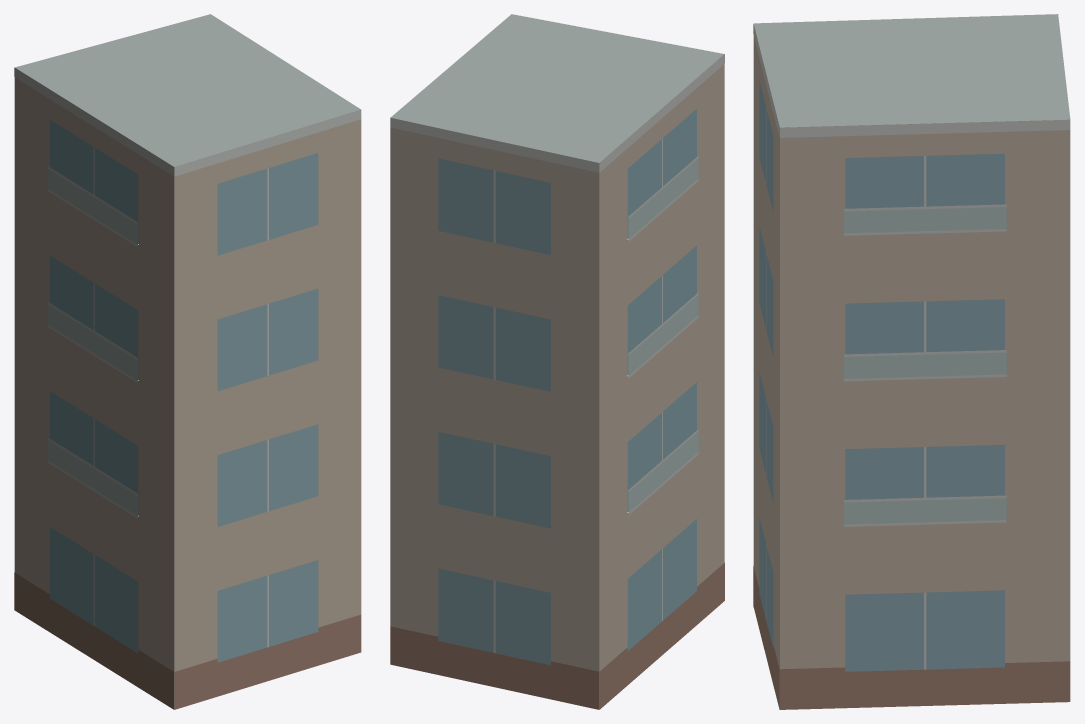
Rendered from survey-upis-32986553.glb.
3 views of the same model, side by side, from view 1: azimuth 30°, elevation 25°; view 2: azimuth 150°, elevation 25°; view 3: azimuth 270°, elevation 25° (orthographic). The views are drawn at different scales.
Visible parts, largest first — view 1: survey-upis-32986553.tmp; view 2: survey-upis-32986553.tmp; view 3: survey-upis-32986553.tmp.
Part boxes in pixels (bbox=[...]): survey-upis-32986553.tmp: bbox=[14, 14, 361, 709]; survey-upis-32986553.tmp: bbox=[390, 14, 724, 709]; survey-upis-32986553.tmp: bbox=[753, 14, 1070, 709].
Size of the model in its own units: 5.74 by 13.7 by 6.77.
